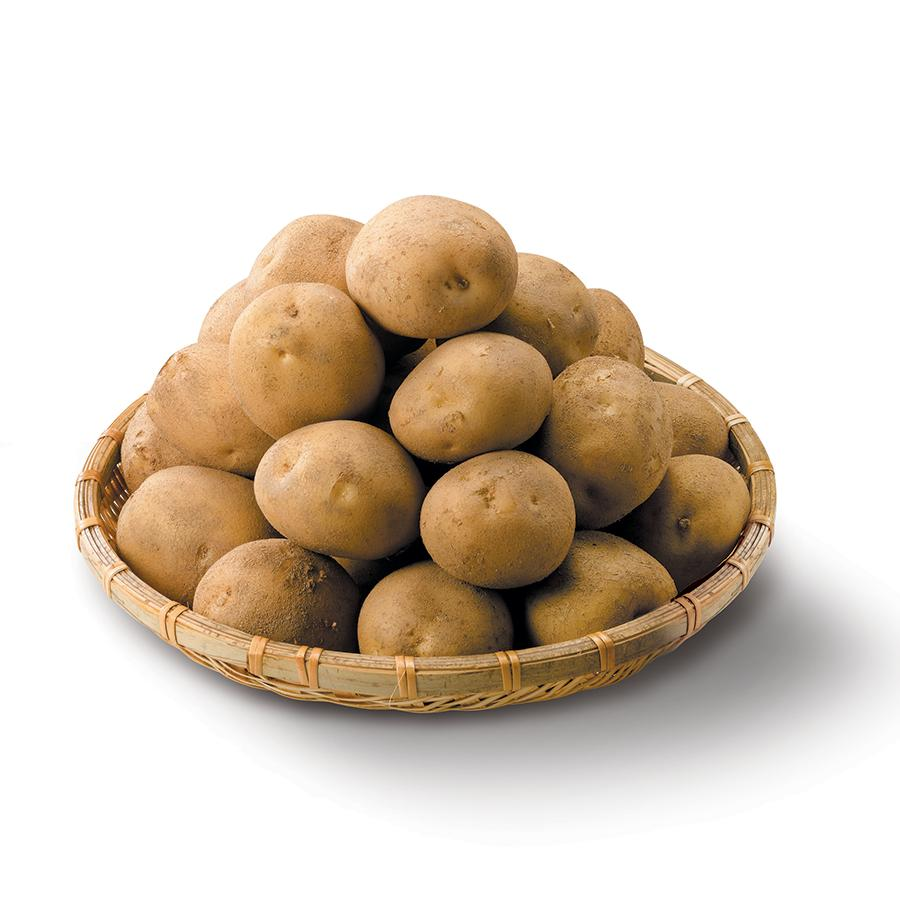potato: (308, 401, 540, 607), (489, 281, 735, 475), (350, 596, 579, 792), (589, 650, 814, 833), (555, 467, 785, 644), (783, 509, 900, 719)
